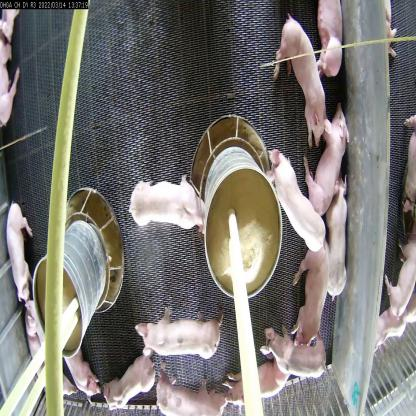Pig: (271, 10, 329, 152), (269, 154, 330, 273), (140, 306, 231, 373), (285, 226, 332, 352), (23, 290, 70, 414), (128, 166, 204, 242), (156, 353, 232, 416), (96, 340, 164, 408), (308, 102, 346, 220), (0, 183, 36, 301), (260, 326, 329, 384), (318, 180, 352, 289), (222, 368, 291, 415), (308, 1, 346, 80), (66, 345, 99, 409)
